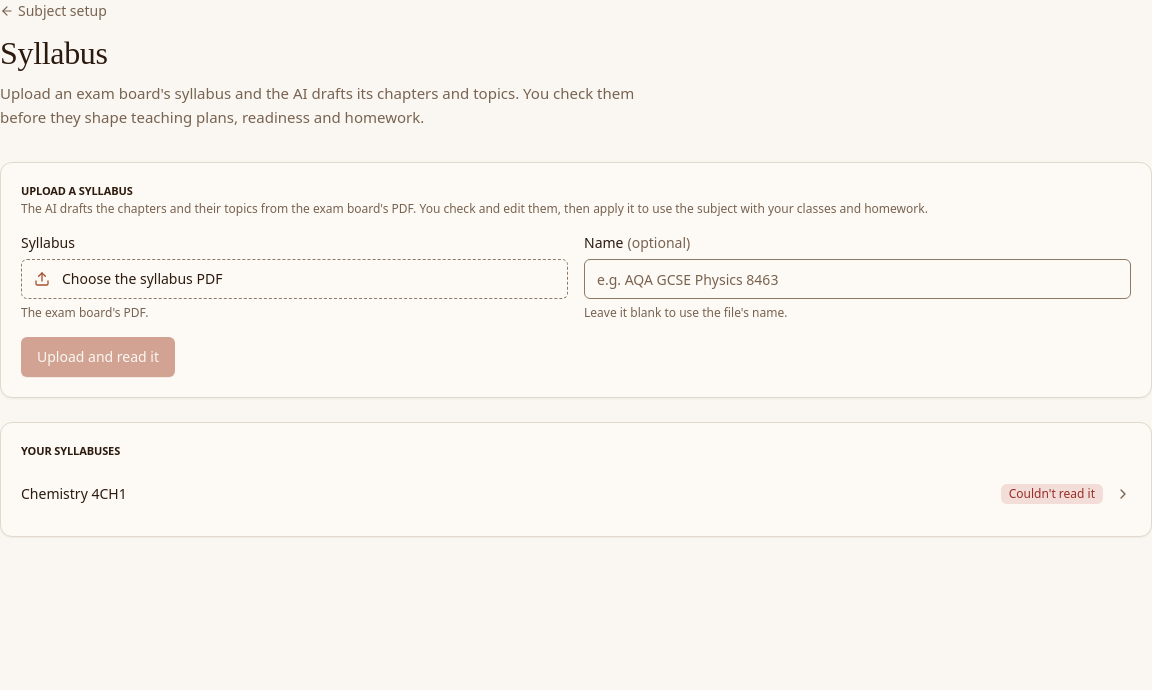
editing a failed extraction clears the retry button
The width and height of the screenshot is (1152, 690).
Click the text "Chemistry 4CH1" at (74,493), box [21,484,127,503]
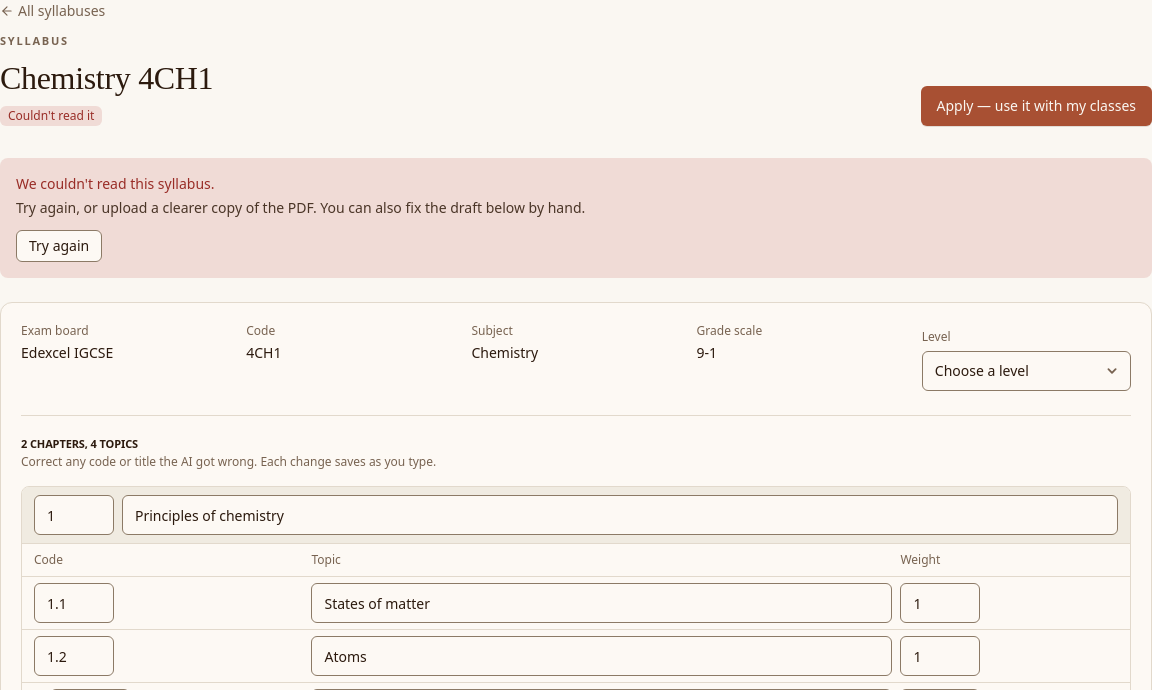
Expected: the heading "2 chapters, 4 topics" is shown, [21,436,138,450]
Expected: the button "Try again" is shown, [16,230,102,262]
Replace the text in the 2nd field showing "Principles of chemistry" with "Principles" at (620,515), box [122,495,1118,535]
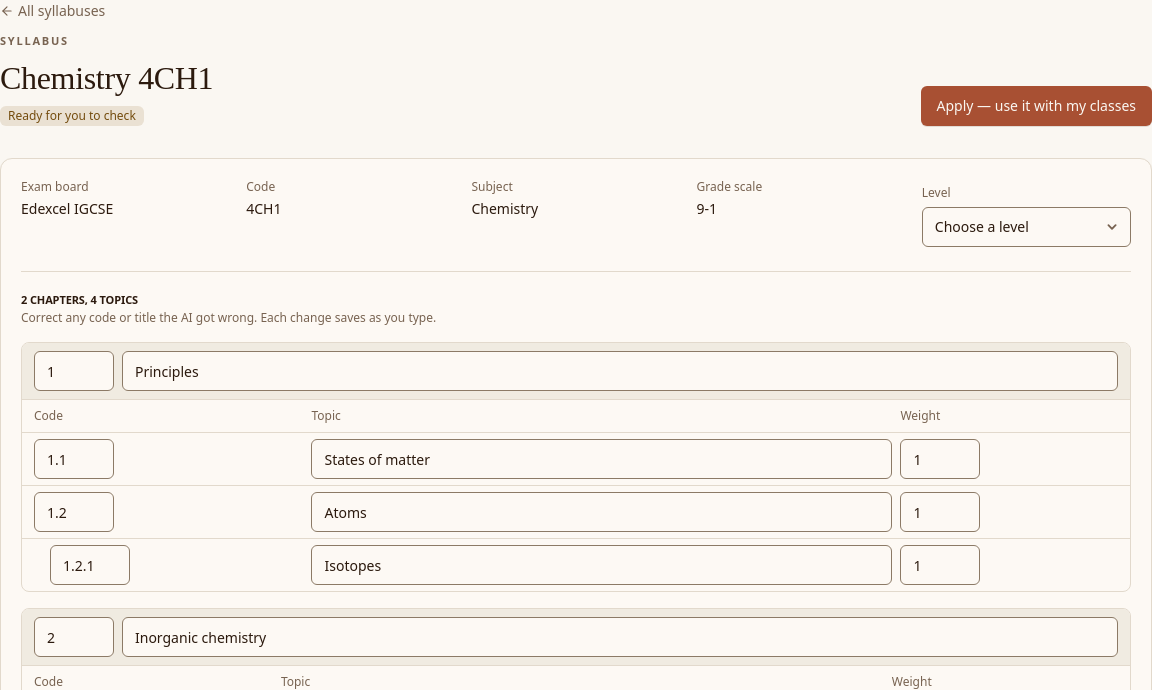
Expected: the text "Try again" is gone
